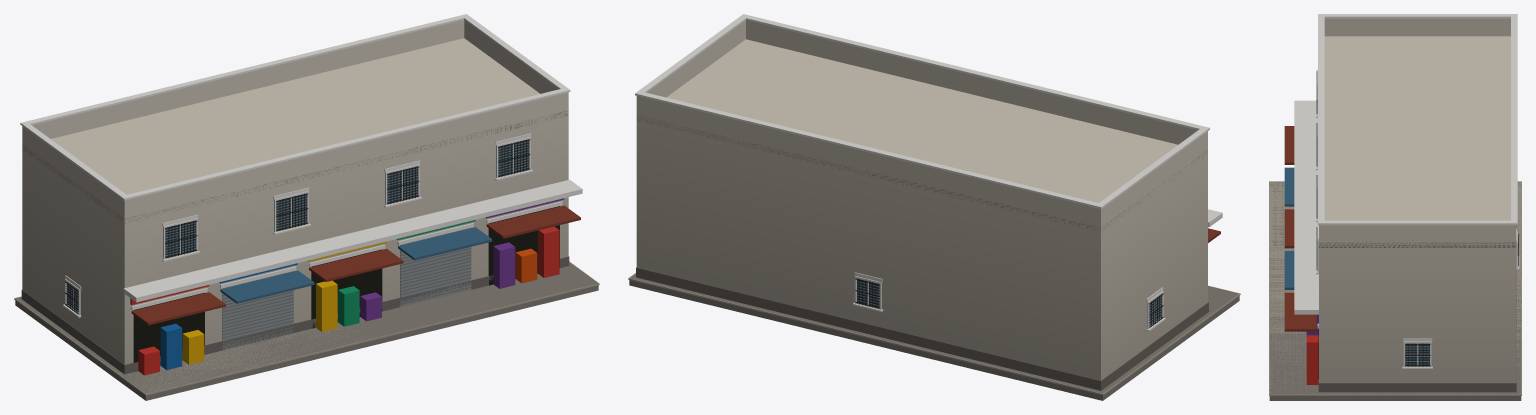
The model's file is ns_shops2.glb.
3 views of the same model, side by side, from view 1: azimuth 30°, elevation 25°; view 2: azimuth 150°, elevation 25°; view 3: azimuth 270°, elevation 25° (orthographic). The views are drawn at different scales.
Parts seen in each view (by area): view 1: ns_shops2; view 2: ns_shops2; view 3: ns_shops2.
Part boxes in pixels (x1,y1,x2,y2): ns_shops2: [14, 14, 599, 400]; ns_shops2: [628, 14, 1240, 400]; ns_shops2: [1269, 14, 1521, 400].
Bounding box in the file's own units: 20.46 × 7.88 × 10.26.
